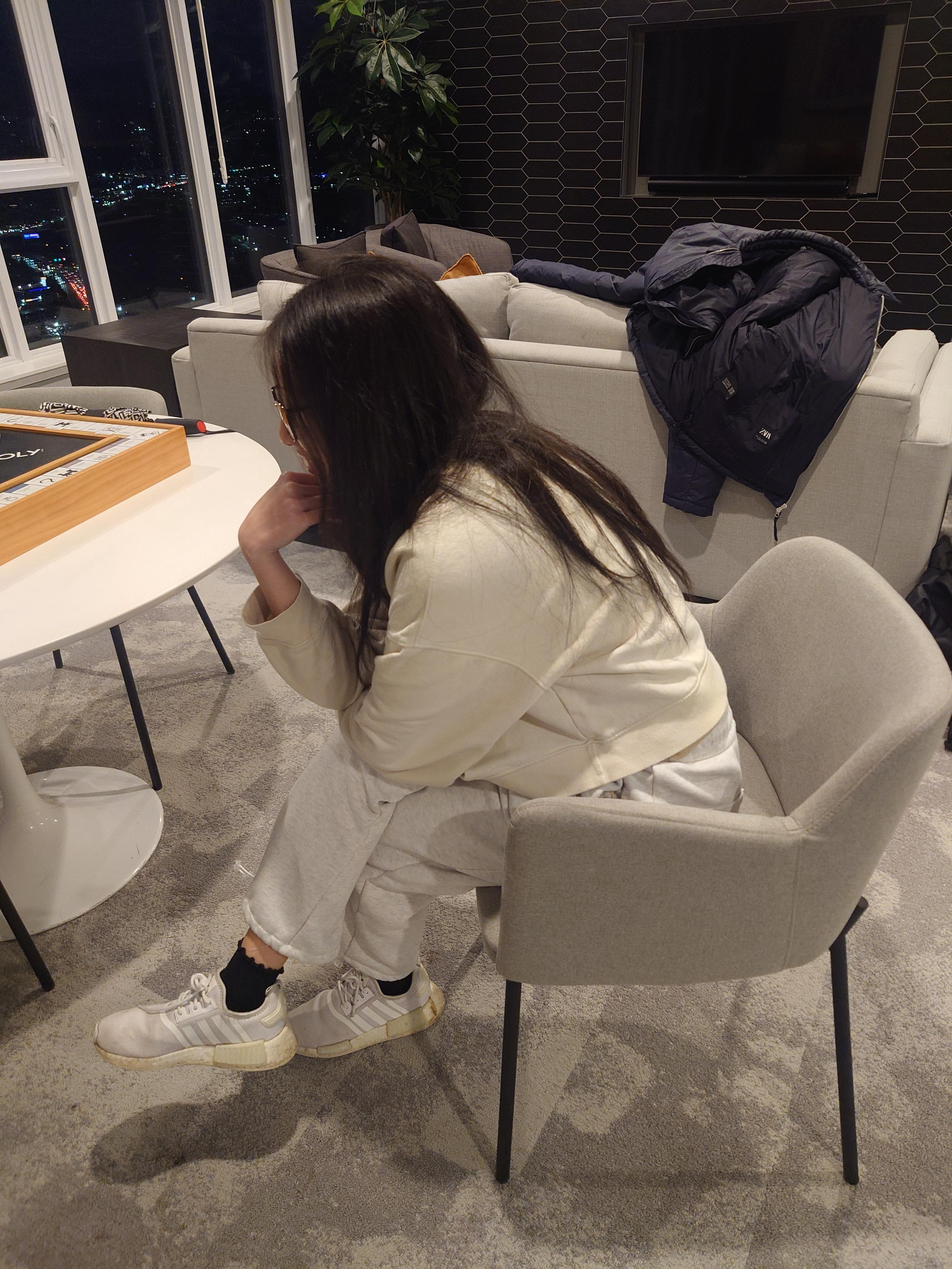BadPosture: (90, 255, 743, 1073)
